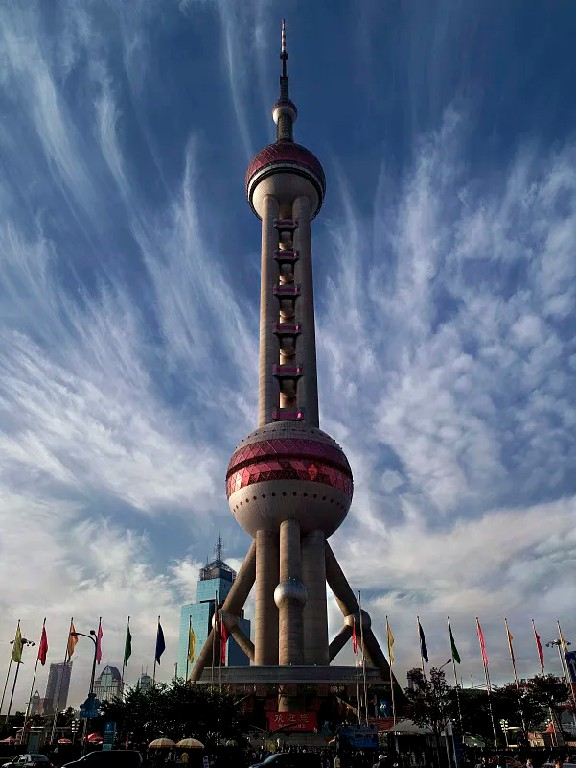Oriental: (188, 17, 393, 672)
